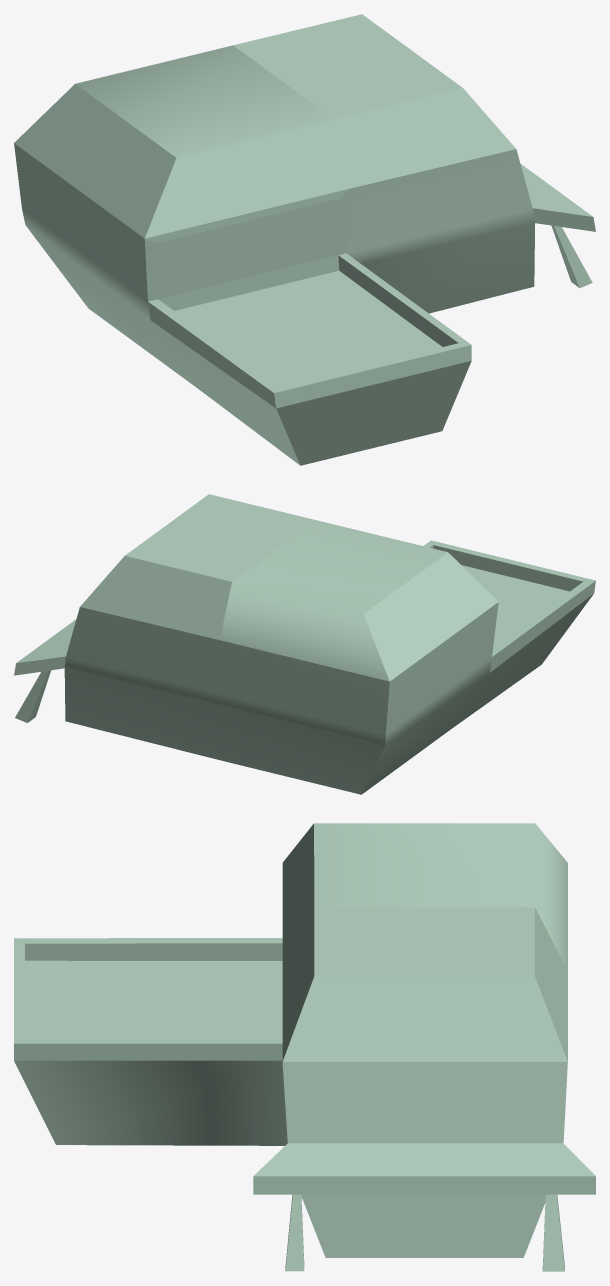
Rendered from cafetest.fbx.
3 renders of one model, top to bottom at view 1: azimuth 30°, elevation 25°; view 2: azimuth 150°, elevation 25°; view 3: azimuth 270°, elevation 25°, orthographic. The views are drawn at different scales.
Visible parts, largest first — view 1: polySurface6; view 2: polySurface6; view 3: polySurface6.
Part boxes in pixels (left/top/right/bottom): polySurface6: left=14, top=14, right=595, bottom=465; polySurface6: left=14, top=494, right=595, bottom=794; polySurface6: left=14, top=823, right=595, bottom=1271.
Bounding box in the file's own units: 662 × 314 × 677.
